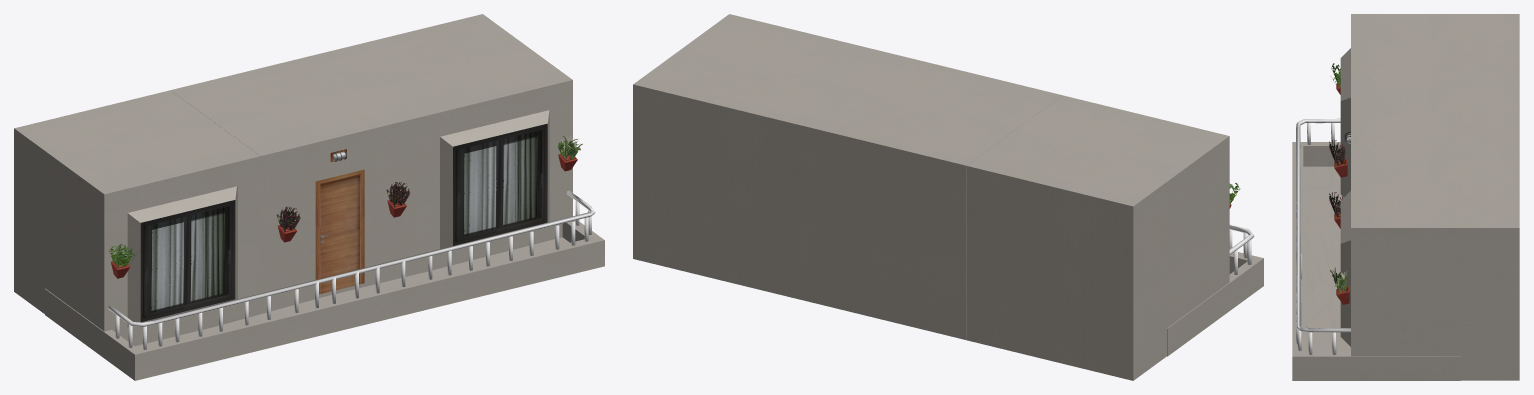
Rendered from tree_whith_Door.fbx.
3 views of the same model, side by side, from view 1: azimuth 30°, elevation 25°; view 2: azimuth 150°, elevation 25°; view 3: azimuth 270°, elevation 25° (orthographic). The views are drawn at different scales.
Visible parts, largest first — view 1: Cube.006; view 2: Cube.006; view 3: Cube.006.
Boxes of the visible parts, x1,y1,x2,y2 form: Cube.006: (14,14,604,380); Cube.006: (633,14,1263,380); Cube.006: (1292,14,1519,380).
Size of the model in its own units: 608 by 200 by 270.
